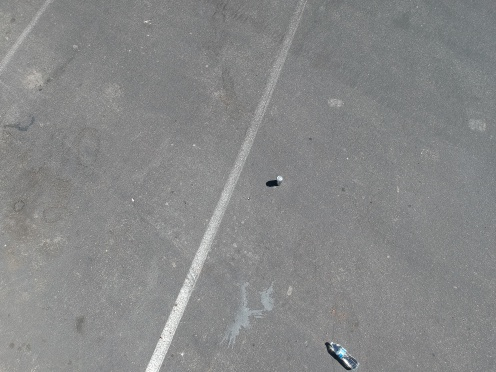bottle: (323, 337, 370, 372)
can: (273, 172, 286, 189)
